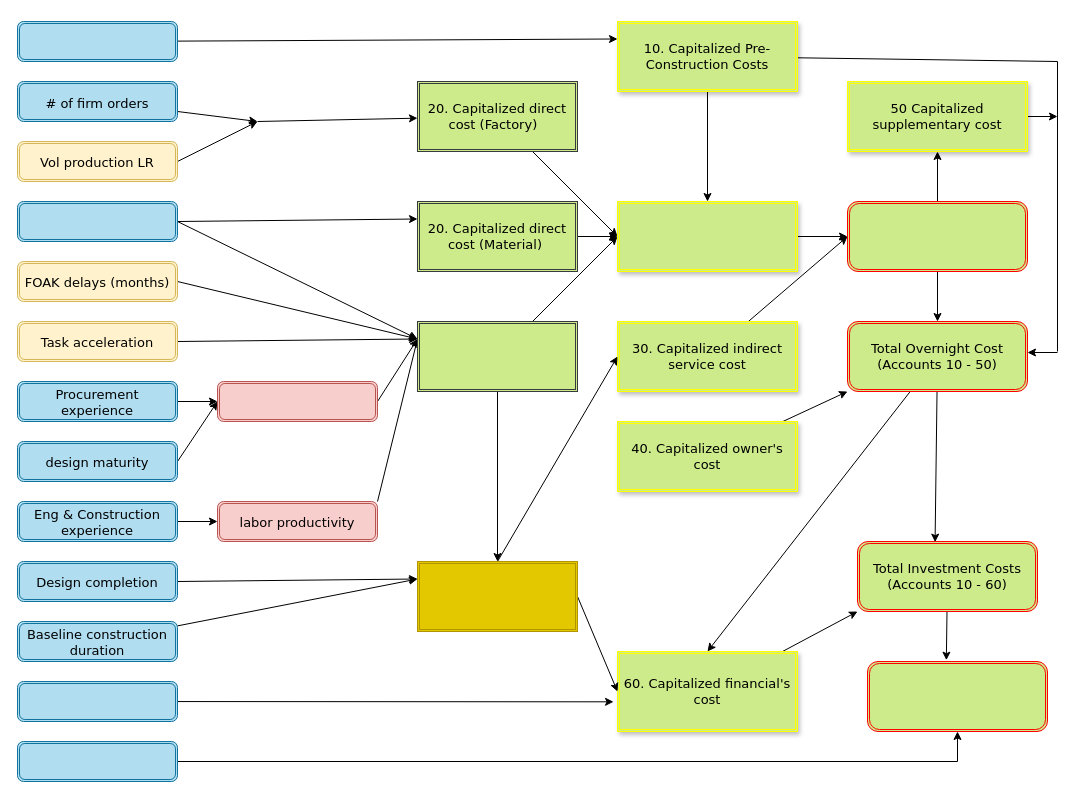
This 1083x799 diagram has some shape labels left out. The centre of each missing label's shape, as x and y in pixels:
20 + 30 (direct and indirect cost): pixel 937 236
20. Capitalized direct cost (Labor): pixel 497 356
20. Capitalized direct costs: pixel 708 237
Actual construction duration: pixel 497 596
Interest rate: pixel 97 701
ITC: pixel 97 761
ITC-Reduced Total Investment Costs (Accounts 10 - 60): pixel 957 696
Land cost ($/acre): pixel 97 41
NAQ turbine? NAQ containment?: pixel 97 221
Supply chain delay factor: pixel 297 401
